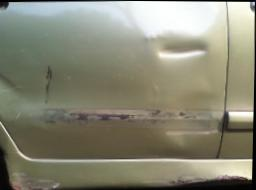Door: (0, 2, 225, 157)
